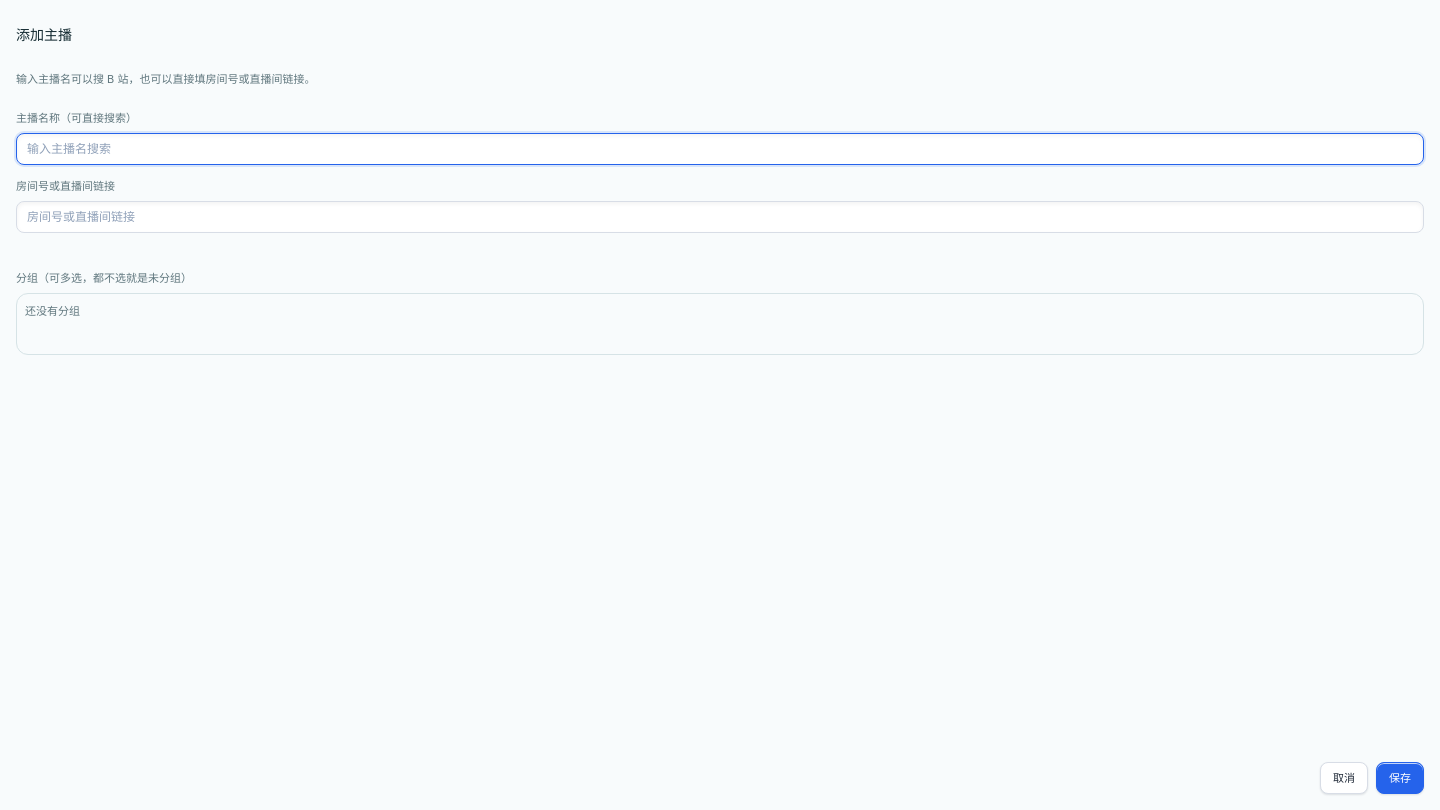
搜到候选后点一下会把名字和房间号填上
The image size is (1440, 810).
Expected: the heading "添加主播" is shown, [16,26,72,43]
In the field labelled "主播名称": (720, 149) [16,133,1424,165], type "老番茄"
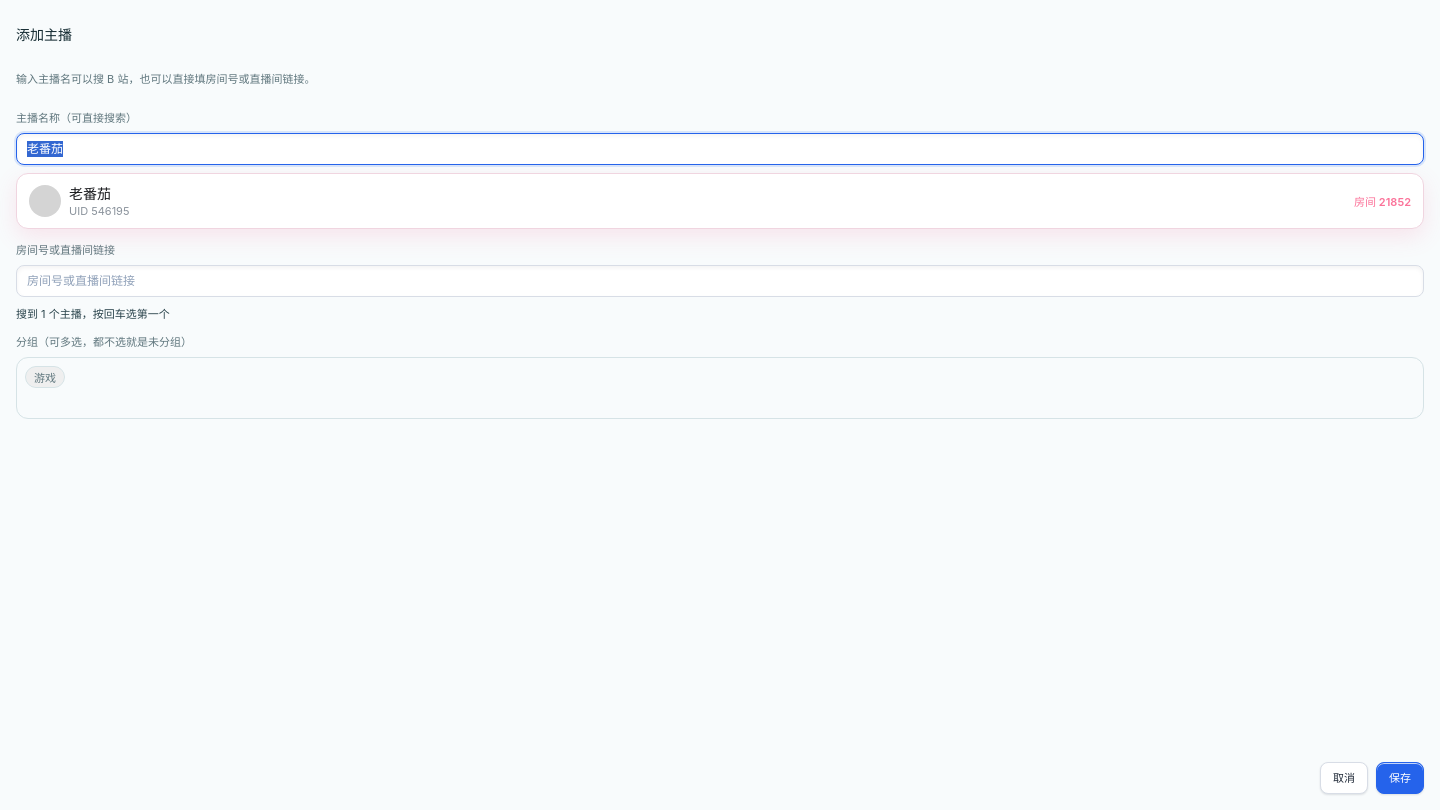
Now the text "UID 546195" is shown, box [69,204,130,218]
Click the button with aria-label "选择主播 老番茄": (45, 201) [21,178,1419,224]
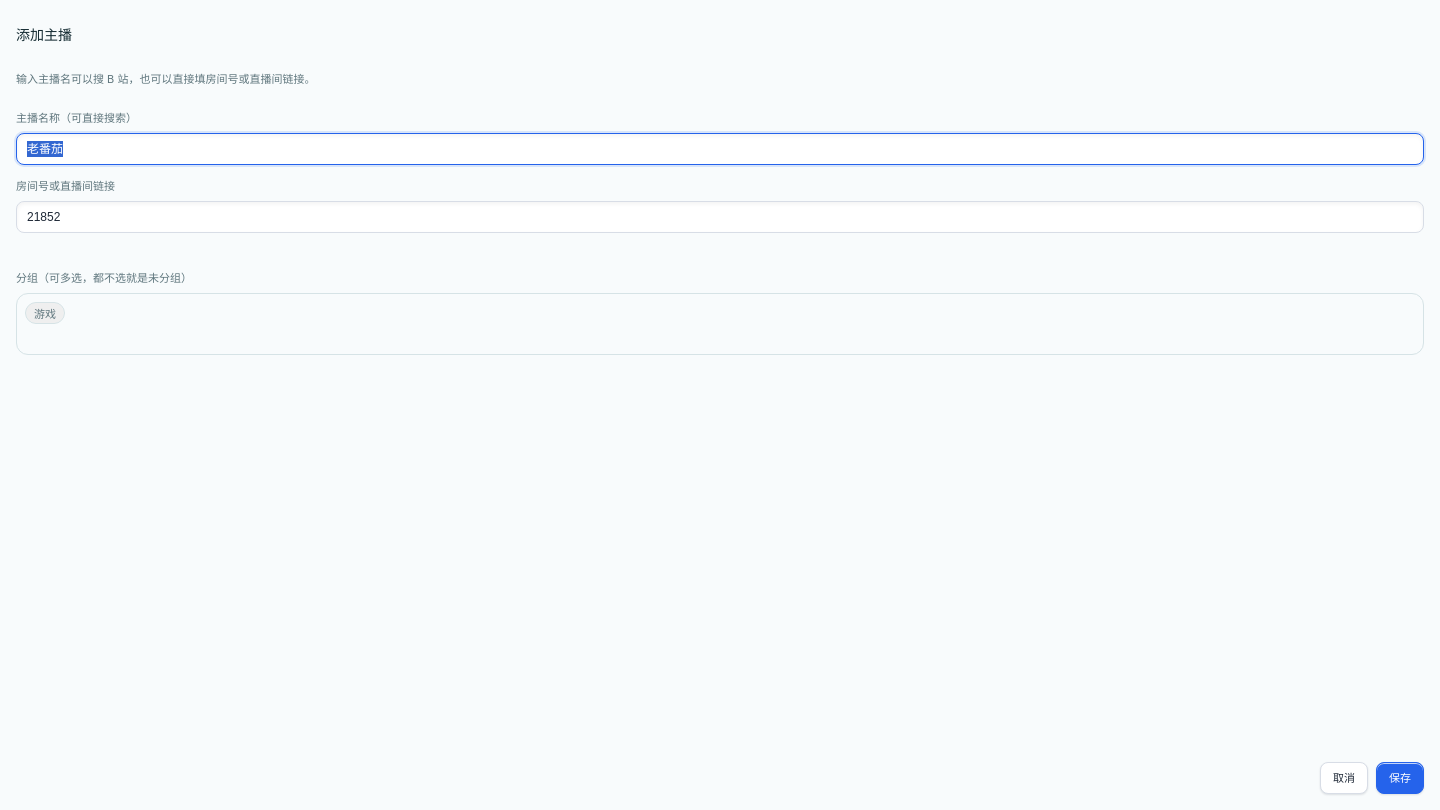
Now the field labelled "房间号或直播间链接" holds "21852", box [16,201,1424,233]
